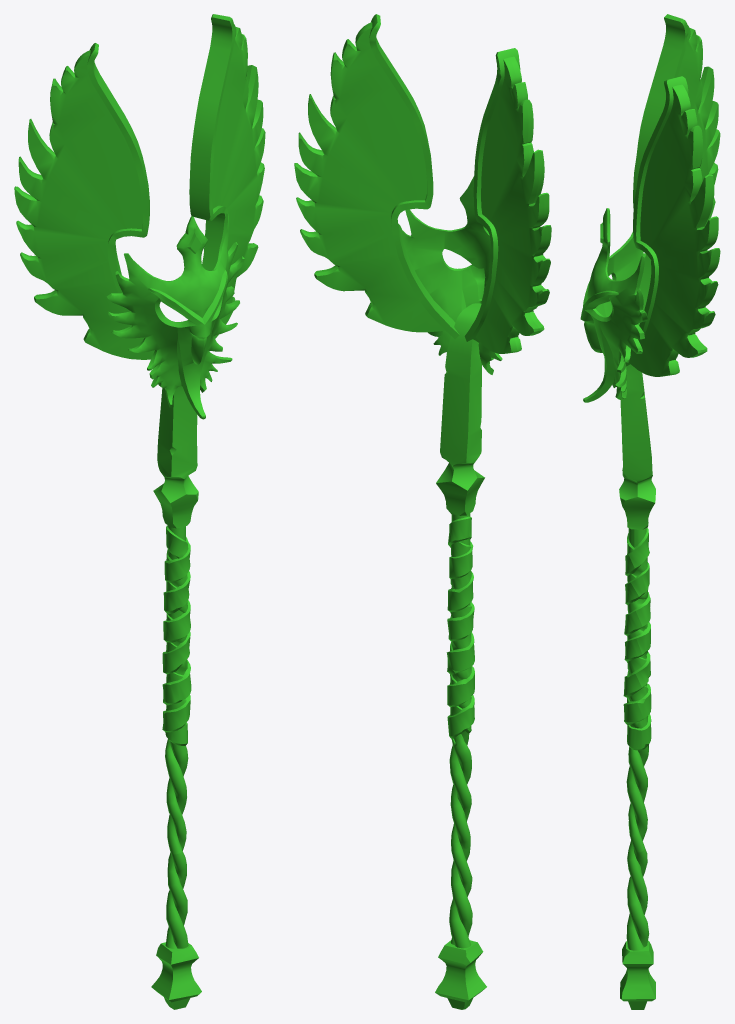
Rendered from SM_Rune_Staff_2.obj.
3 views of the same model, side by side, from view 1: azimuth 30°, elevation 25°; view 2: azimuth 150°, elevation 25°; view 3: azimuth 270°, elevation 25° (orthographic). The views are drawn at different scales.
Size of the model in its own units: 477 by 1748 by 231.
